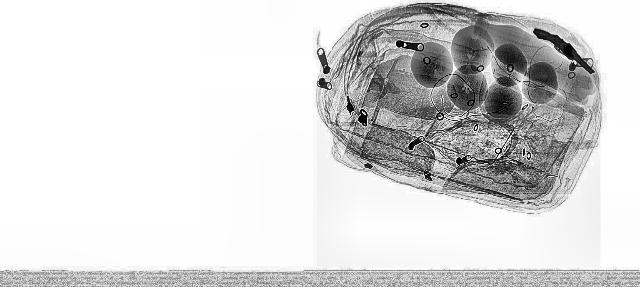Gun: (522, 27, 614, 75)
